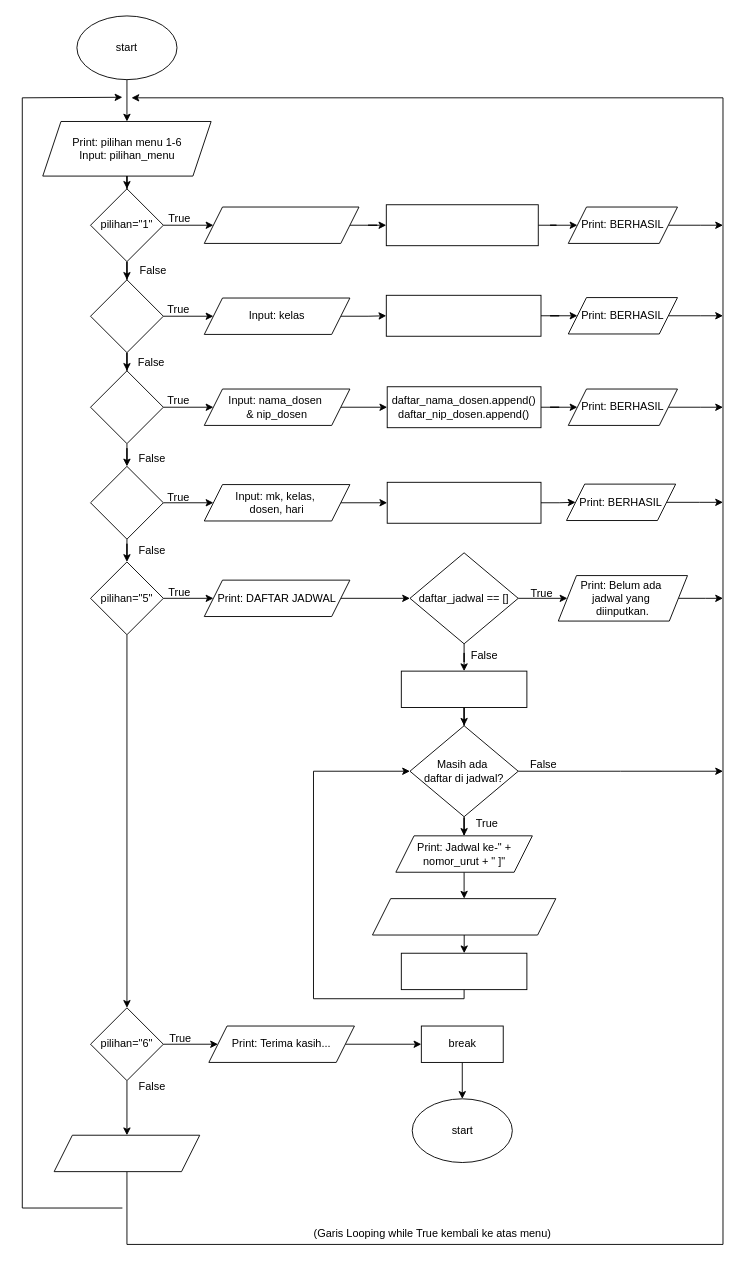
The diagram is 746 pixels wide and 1268 high, and some of its shapes have lost their labels. The shapes that lost their labels are listed below. From the top down, each one's box as (x1, y1, x2, y2) in pixels, then its label:
(203, 206, 359, 243): Input: nama_mk & sks
(385, 204, 538, 246): daftar_nama_mk.append() daftar_sks_mk.append()
(90, 279, 163, 353): pilihan="2"
(385, 294, 541, 336): daftar_kelas.append()
(90, 370, 163, 444): pilihan="3"
(90, 465, 163, 539): pilihan="4"
(386, 481, 541, 523): jadwal_baru = JadwalKuliah(...) daftar_jadwal.append()
(400, 670, 527, 708): nomor_urut = 1
(372, 898, 556, 935): jadwal.tampilkanInformasi()
(400, 952, 527, 990): nomor_urut += 1
(53, 1134, 200, 1172): Print: ERROR Pilihan menu tidak valid!
